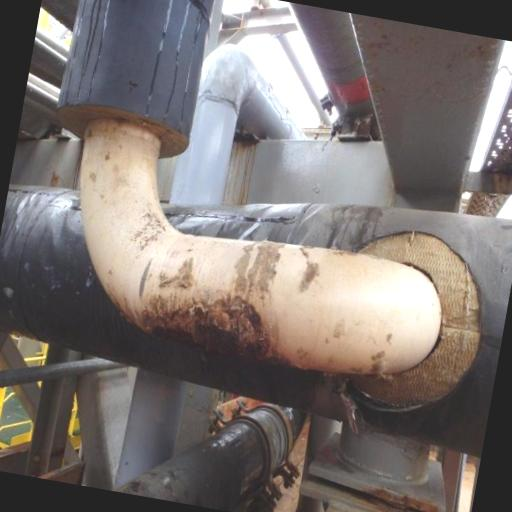segmentation: (126, 236, 277, 376)
